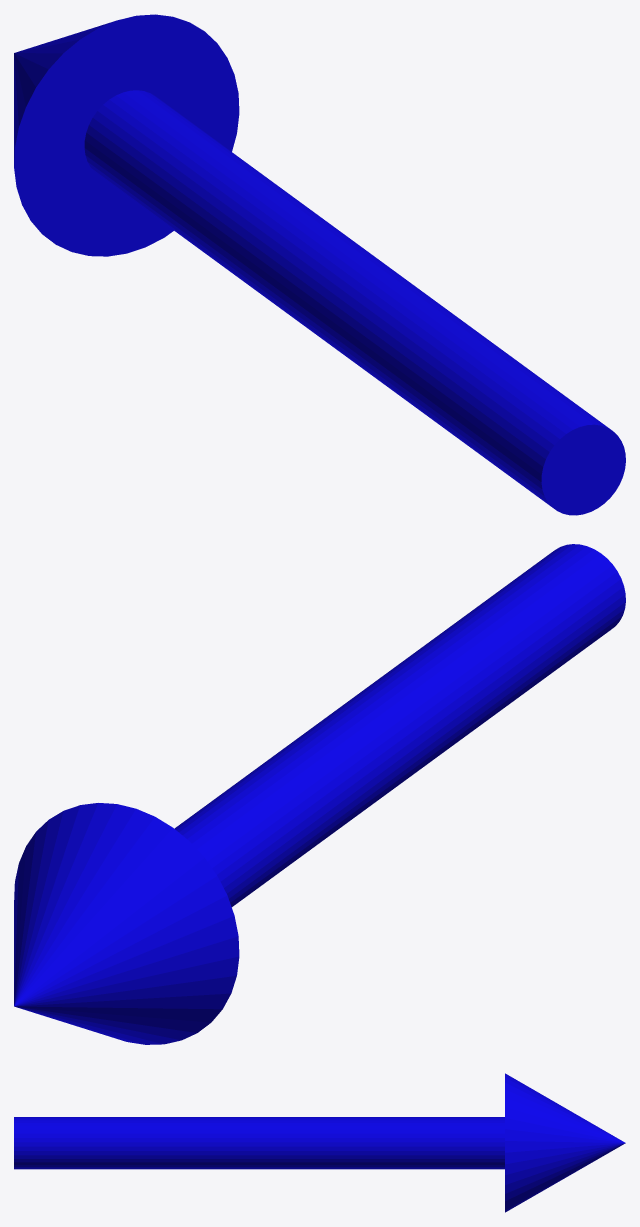
The model's file is Azul.fbx.
3 renders of one model, top to bottom at view 1: azimuth 30°, elevation 25°; view 2: azimuth 150°, elevation 25°; view 3: azimuth 270°, elevation 25°, orthographic. The views are drawn at different scales.
Parts seen in each view (by area): view 1: azul; view 2: azul; view 3: azul.
Part boxes in pixels (x1,y1,x2,y2): azul: (14, 14, 625, 515); azul: (14, 544, 625, 1044); azul: (14, 1073, 625, 1212).
Bounding box in the file's own units: 1599 × 1597 × 7000.
